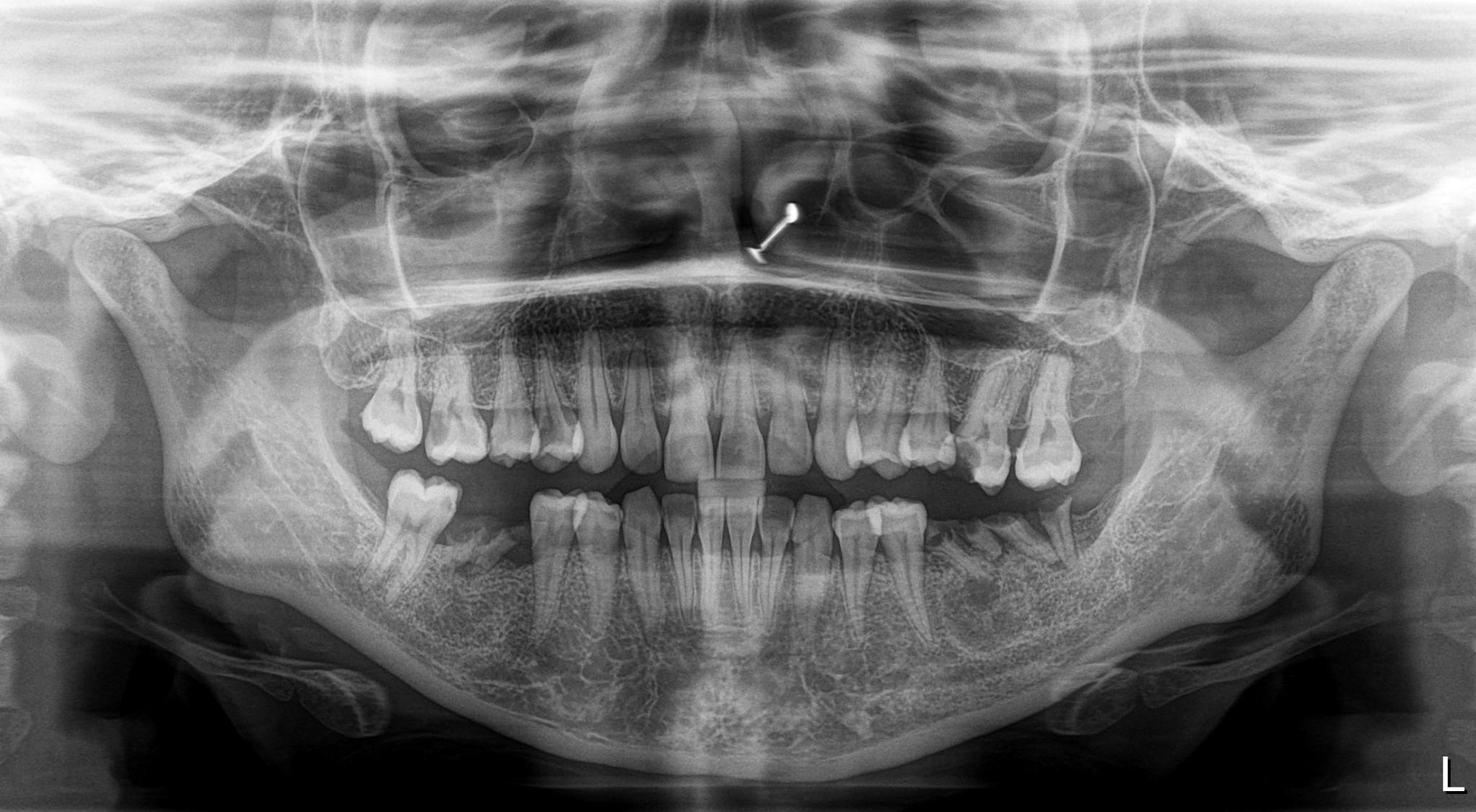Dental Caries: (948, 434, 1014, 486)
Impacted Third Molar: (378, 470, 455, 594)
Periapical Lesion: (930, 594, 1021, 638)
Retained Root: (445, 519, 527, 575), (1052, 490, 1090, 577), (926, 513, 966, 582), (1009, 503, 1041, 588), (971, 506, 1002, 575)
